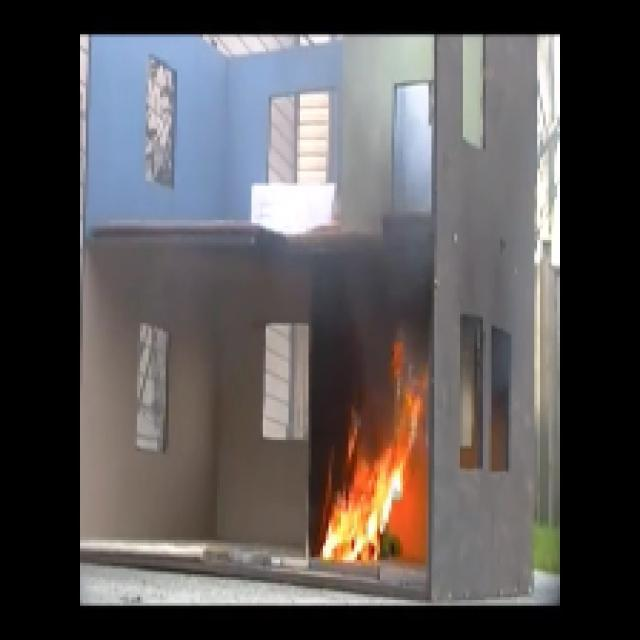Fire: (334, 426, 412, 562)
Smoke: (320, 244, 420, 336)
